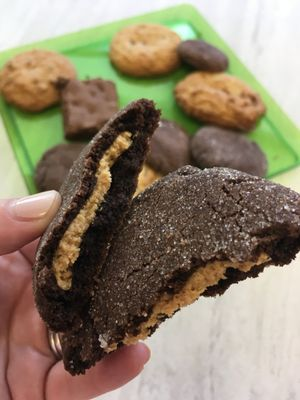salad: (174, 70, 266, 131), (108, 23, 182, 79), (178, 40, 228, 72)
sushi: (28, 53, 300, 395)
